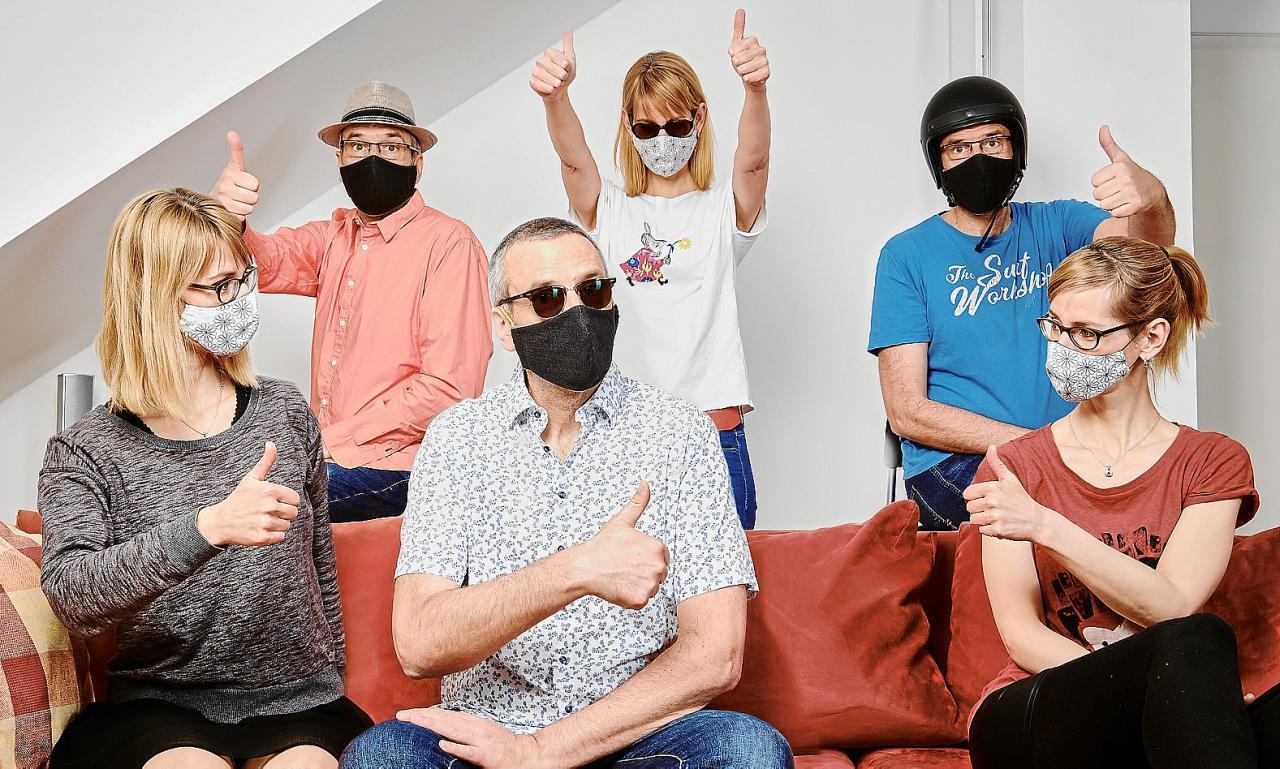with_mask: (1036, 259, 1204, 428), (121, 202, 273, 379), (488, 240, 624, 385), (918, 101, 1037, 220), (330, 95, 442, 214), (615, 64, 724, 186)
